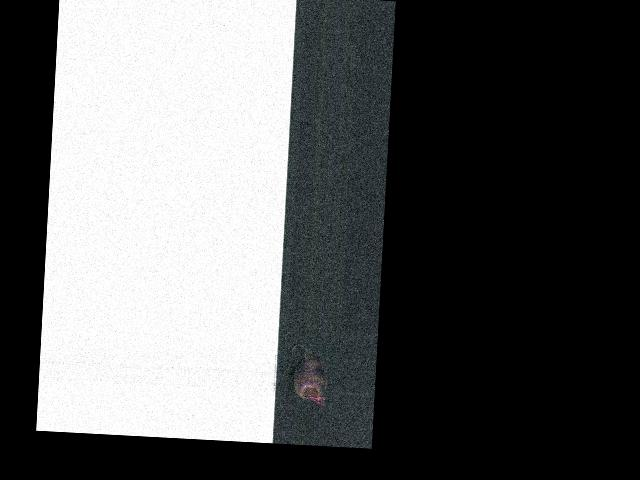beet: (285, 343, 329, 407)
